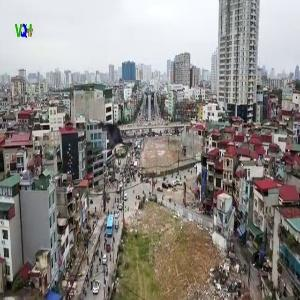drone: (89, 112, 136, 159)
